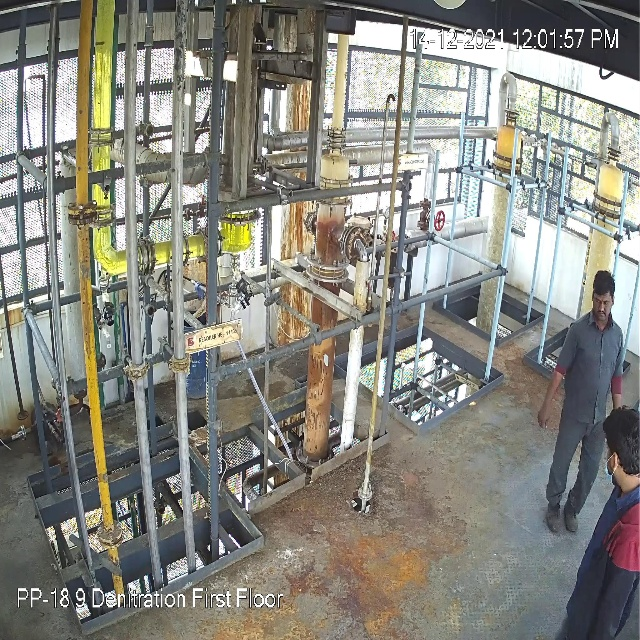Sin_gafas: (590, 294, 612, 306)
Sin_mascara: (591, 305, 611, 319)
